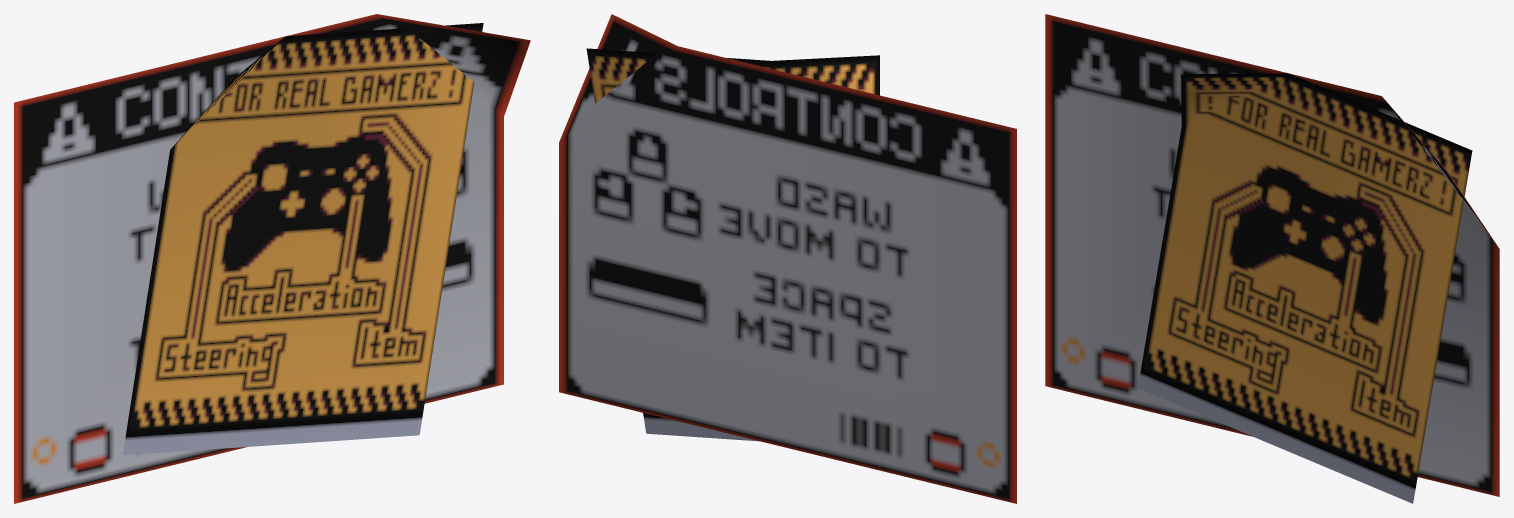
File: posters.glb
3 renders of one model, left to right at view 1: azimuth 30°, elevation 25°; view 2: azimuth 150°, elevation 25°; view 3: azimuth 330°, elevation 25°, orthographic. The views are drawn at different scales.
Visible parts, largest first — view 1: gampaddPOSTER, keyboardPOSTER; view 2: keyboardPOSTER, gampaddPOSTER; view 3: gampaddPOSTER, keyboardPOSTER.
Boxes of the visible parts, bbox=[...] form: gampaddPOSTER: bbox=[123, 23, 483, 455]; keyboardPOSTER: bbox=[14, 14, 530, 503]; keyboardPOSTER: bbox=[559, 14, 1016, 503]; gampaddPOSTER: bbox=[586, 48, 879, 441]; gampaddPOSTER: bbox=[1138, 73, 1472, 503]; keyboardPOSTER: bbox=[1045, 14, 1499, 496].
Bounding box in the file's own units: 4.92 × 4.17 × 0.7224.
Materials: 1 (1 with a texture image).
